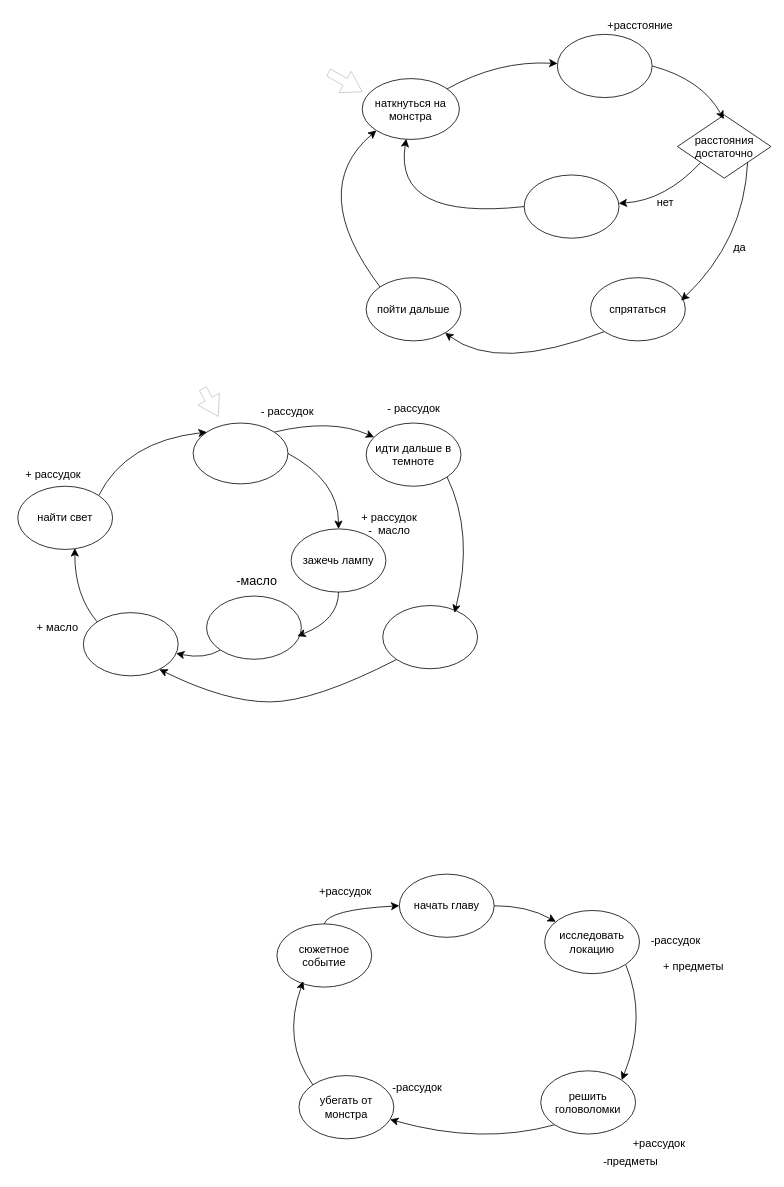
The diagram is 784 pixels wide and 1187 high, and some of its shapes have lost their labels. The box of each missing label's shape, as (x1, y1, x2, y2) in pixels:
идти дальше: (206, 595, 301, 659)
найти предметы: (83, 612, 178, 676)
начать видеть галюцинации: (382, 605, 478, 669)
попасть в темноту: (192, 422, 288, 484)
убегать: (557, 34, 652, 98)
умереть: (523, 174, 619, 238)
